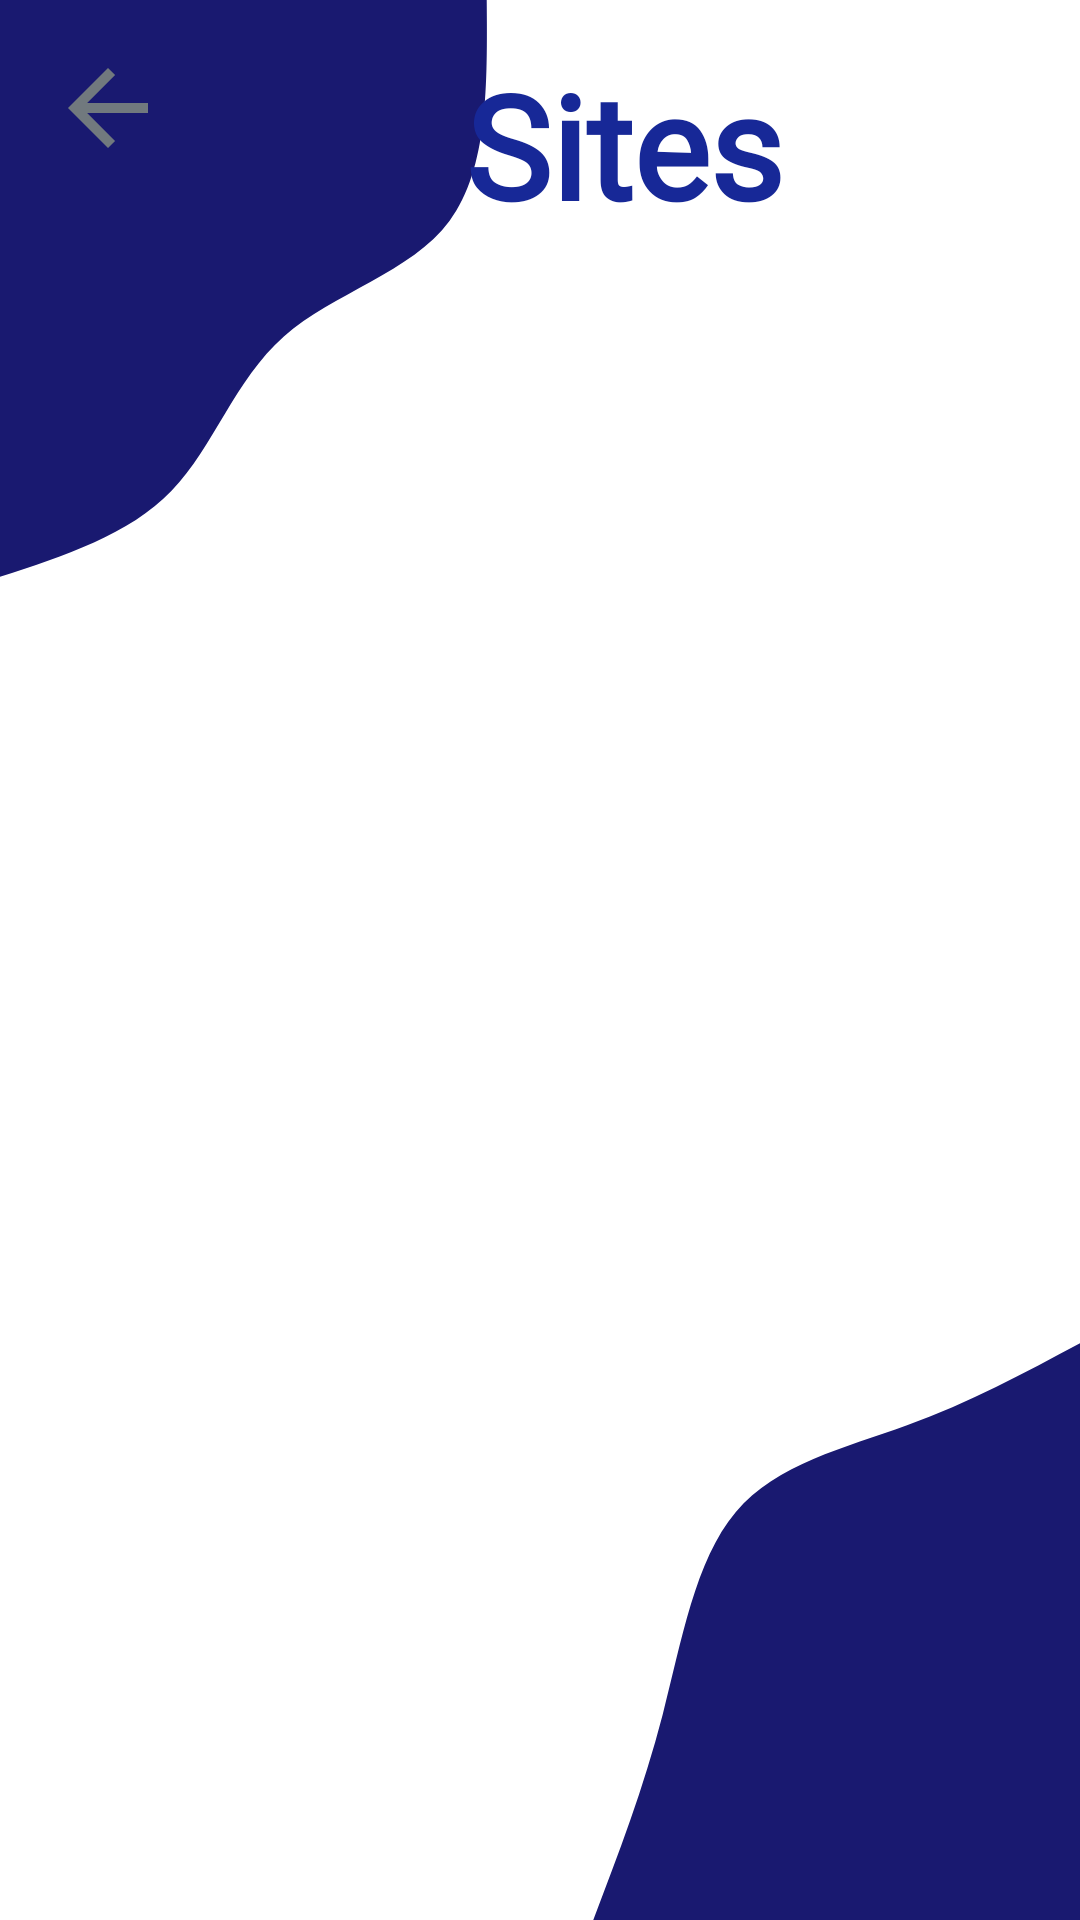

Icons on this 1080 x 1920 Android screen, each with the point to tap as (x,y):
Back button: (108,108)
